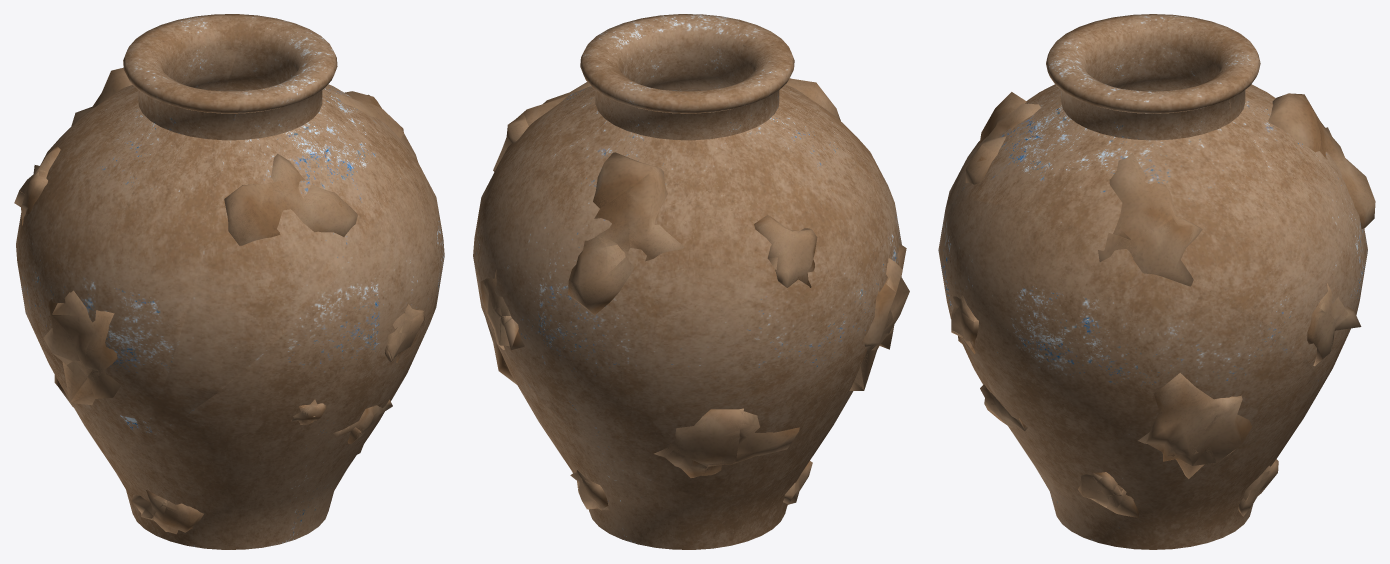
Rendered from Jar_Dirt.fbx.
The picture shows the model from 3 angles, left to right: view 1: azimuth 30°, elevation 25°; view 2: azimuth 150°, elevation 25°; view 3: azimuth 270°, elevation 25°; orthographic projection.
Parts seen in each view (by area): view 1: Jar, Jar_Crack_3, Jar_Crack_1, Dirt_Jar_3_1, Dirt_Jar_1_1, Dirt_Jar_1_1_cell, Dirt_Jar_3_1_cell.003, Dirt_Jar_5, Jar_Crack_2, Dirt_Jar_2, Dirt_Jar_6_1, Dirt_Jar_3 (+3 smaller); view 2: Jar, Jar_Crack_3, Jar_Crack_2, Dirt_Jar_3, Jar_Crack_1, Dirt_Jar_2_1, Dirt_Jar_3_cell.001, Dirt_Jar_6_1, Dirt_Jar_3_cell.002, Dirt_Jar_2_1_cell.003, Dirt_Jar_1_1, Dirt_Jar_4 (+6 smaller); view 3: Jar, Jar_Crack_2, Jar_Crack_1, Jar_Crack_3, Dirt_Jar_2, Dirt_Jar_1, Dirt_Jar_1_cell.003, Dirt_Jar_3, Dirt_Jar_3_1, Dirt_Jar_2_cell, Dirt_Jar_2_cell.001, Dirt_Jar_4 (+5 smaller).
Part boxes in pixels (left/top/right/bottom): Jar: left=16, top=15, right=444, bottom=549; Jar_Crack_3: left=24, top=14, right=245, bottom=455; Jar_Crack_1: left=149, top=14, right=406, bottom=435; Dirt_Jar_3_1: left=224, top=153, right=357, bottom=245; Dirt_Jar_1_1: left=43, top=298, right=120, bottom=405; Dirt_Jar_1_1_cell: left=52, top=290, right=117, bottom=371; Dirt_Jar_3_1_cell.003: left=228, top=201, right=279, bottom=245; Dirt_Jar_5: left=132, top=490, right=203, bottom=534; Jar_Crack_2: left=106, top=145, right=427, bottom=520; Dirt_Jar_2: left=331, top=91, right=404, bottom=138; Dirt_Jar_6_1: left=14, top=149, right=59, bottom=225; Dirt_Jar_3: left=92, top=68, right=132, bottom=106; Jar: left=473, top=21, right=898, bottom=537; Jar_Crack_3: left=535, top=32, right=901, bottom=460; Jar_Crack_2: left=473, top=212, right=825, bottom=549; Dirt_Jar_3: left=568, top=152, right=683, bottom=314; Jar_Crack_1: left=498, top=14, right=859, bottom=445; Dirt_Jar_2_1: left=654, top=409, right=792, bottom=477; Dirt_Jar_3_cell.001: left=594, top=167, right=683, bottom=260; Dirt_Jar_6_1: left=754, top=215, right=815, bottom=287; Dirt_Jar_3_cell.002: left=569, top=236, right=630, bottom=314; Dirt_Jar_2_1_cell.003: left=675, top=408, right=743, bottom=466; Dirt_Jar_1_1: left=849, top=275, right=899, bottom=390; Dirt_Jar_4: left=480, top=270, right=524, bottom=350; Jar: left=938, top=33, right=1367, bottom=549; Jar_Crack_2: left=967, top=229, right=1319, bottom=549; Jar_Crack_1: left=946, top=40, right=1325, bottom=314; Jar_Crack_3: left=1042, top=14, right=1303, bottom=176; Dirt_Jar_2: left=1107, top=153, right=1202, bottom=285; Dirt_Jar_1: left=1141, top=373, right=1251, bottom=477; Dirt_Jar_1_cell.003: left=1138, top=373, right=1219, bottom=456; Dirt_Jar_3: left=1268, top=93, right=1375, bottom=228; Dirt_Jar_3_1: left=965, top=92, right=1040, bottom=184; Dirt_Jar_2_cell: left=1132, top=218, right=1201, bottom=286; Dirt_Jar_2_cell.001: left=1109, top=158, right=1172, bottom=241; Dirt_Jar_4: left=1307, top=283, right=1353, bottom=365.
Size of the model in its own units: 186 by 212 by 185.
Materials: 2 (2 with a texture image).
